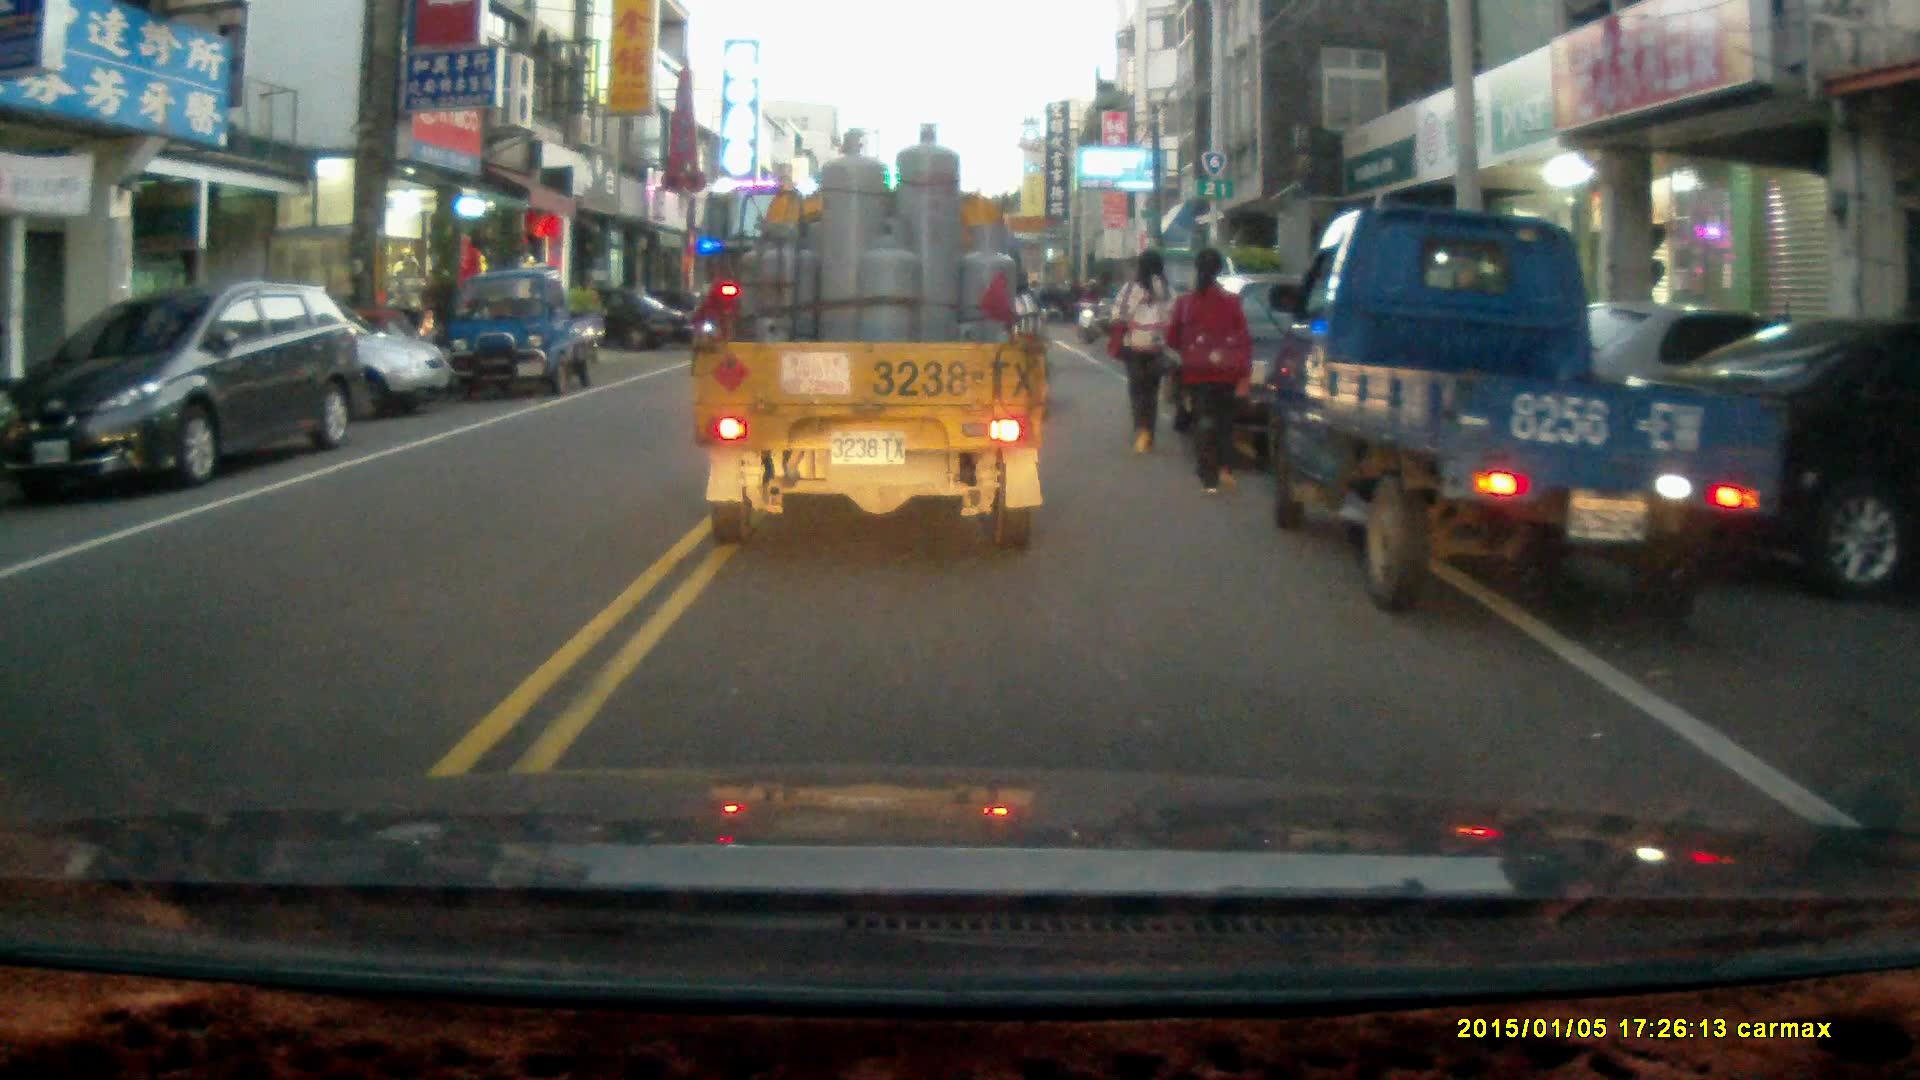pedestrian: (1162, 251, 1251, 498), (1105, 245, 1175, 453)
rider: (1073, 275, 1106, 343)
vehicle: (1267, 204, 1781, 633), (690, 123, 1049, 554), (1, 281, 363, 492), (1170, 272, 1424, 463), (155, 295, 456, 429), (445, 274, 597, 404)
